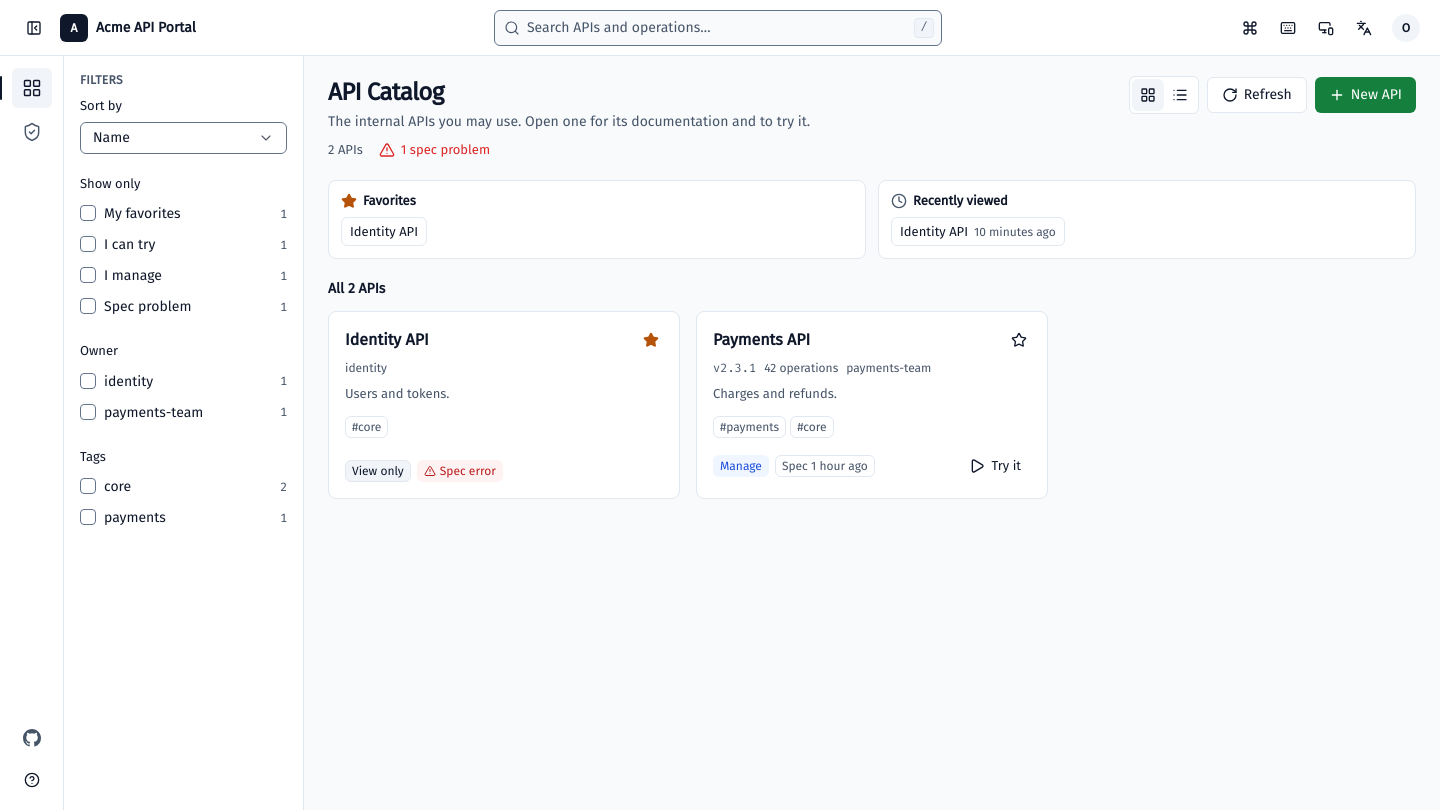
it: catalog page › stars an API at once and rolls back when saving fails
Click the button named "Add Payments API to favorites".
click(1019, 340)  # box left=1003, top=324, right=1035, bottom=356
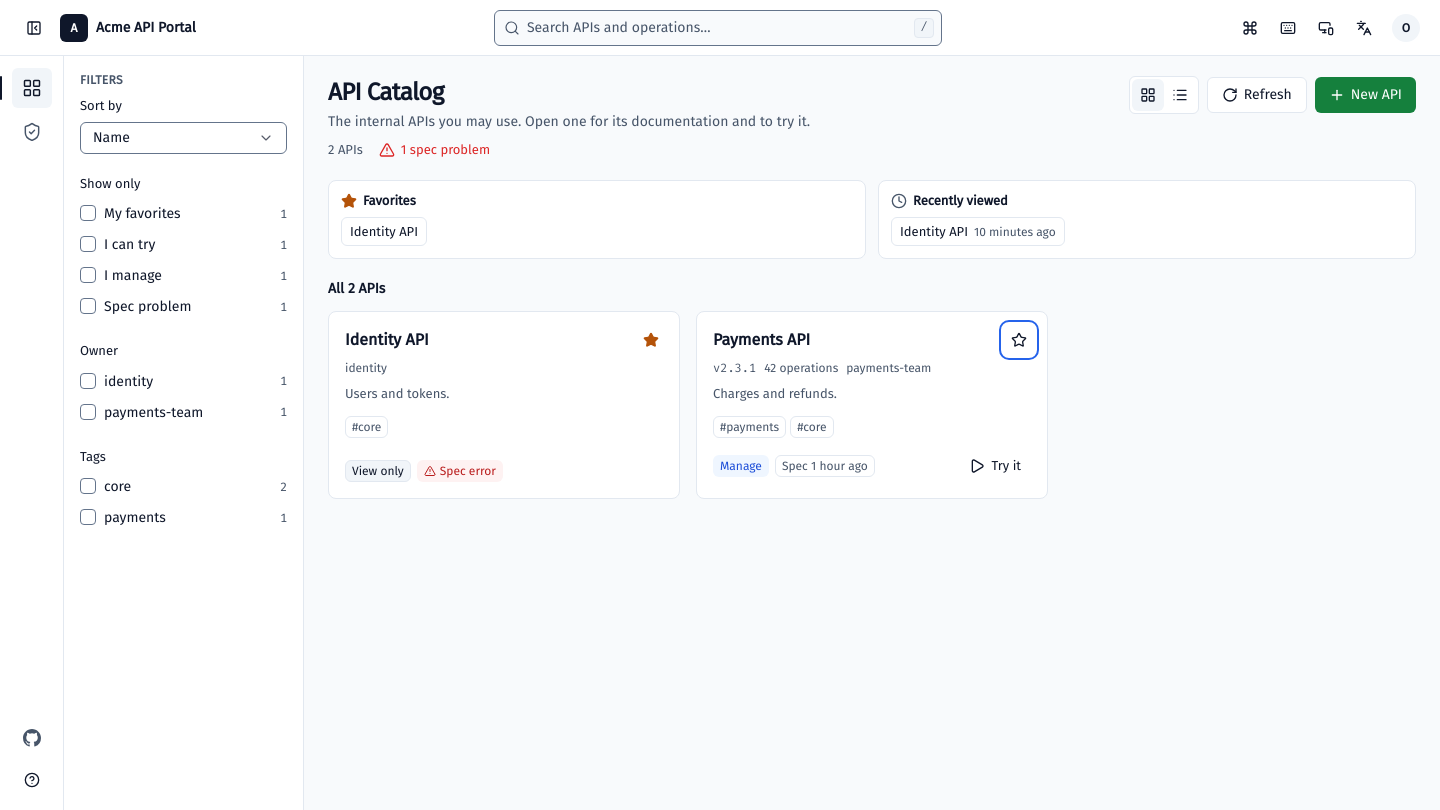
Click the button "Refresh".
click(1257, 95)  # box left=1207, top=77, right=1307, bottom=113
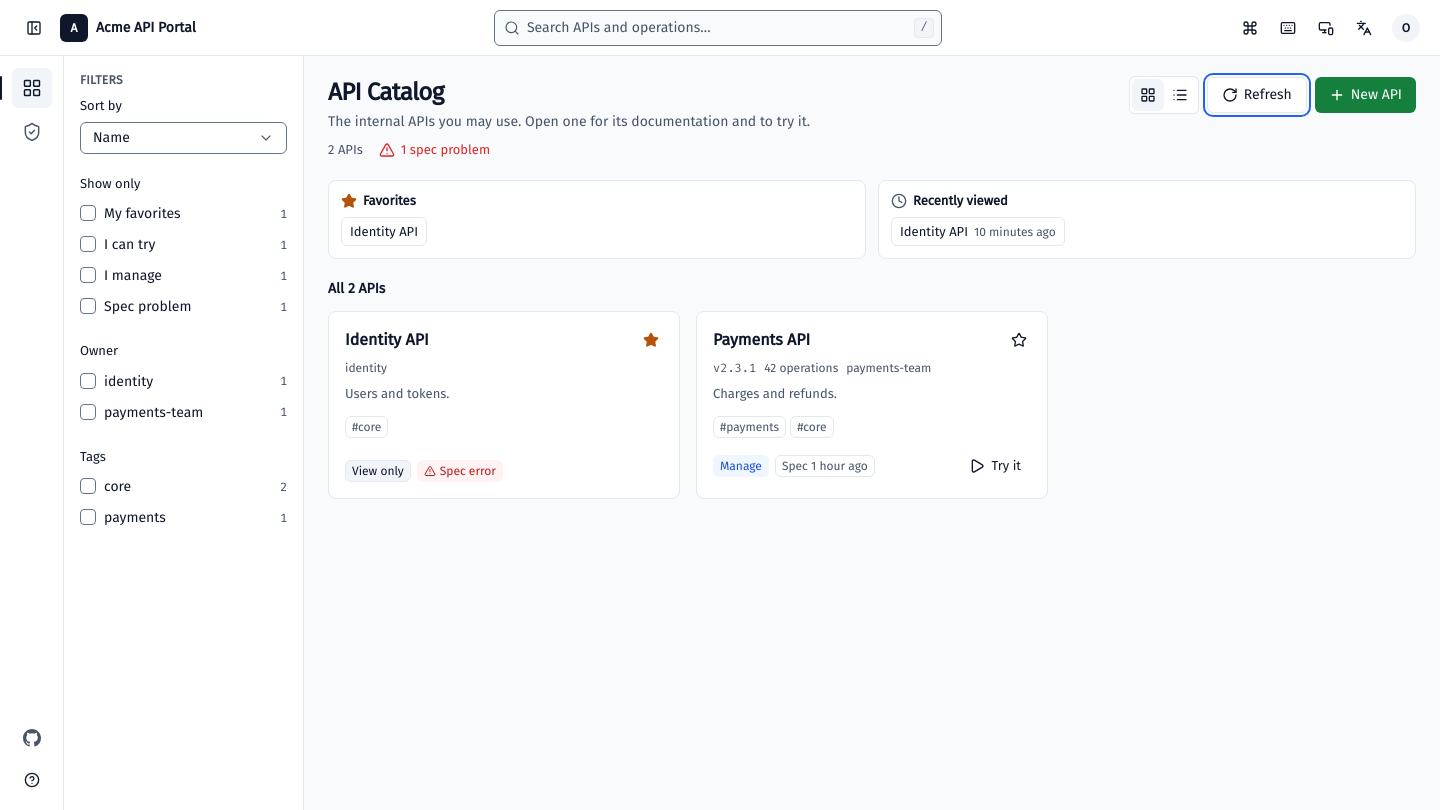
Click the button named "Add Payments API to favorites".
click(1019, 340)  # box left=1003, top=324, right=1035, bottom=356
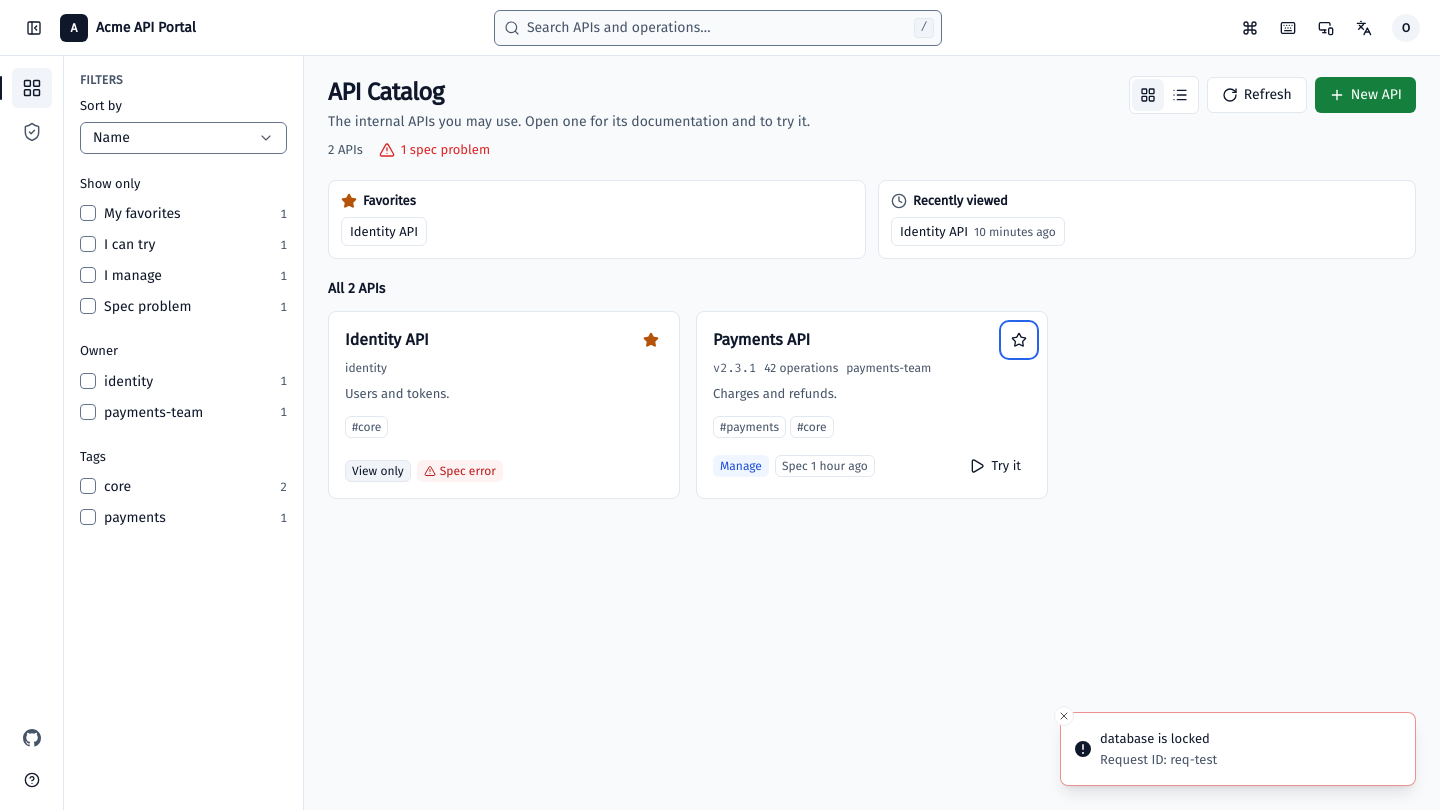
Result: the text "database is locked" is shown at left=1100, top=729, right=1217, bottom=749
